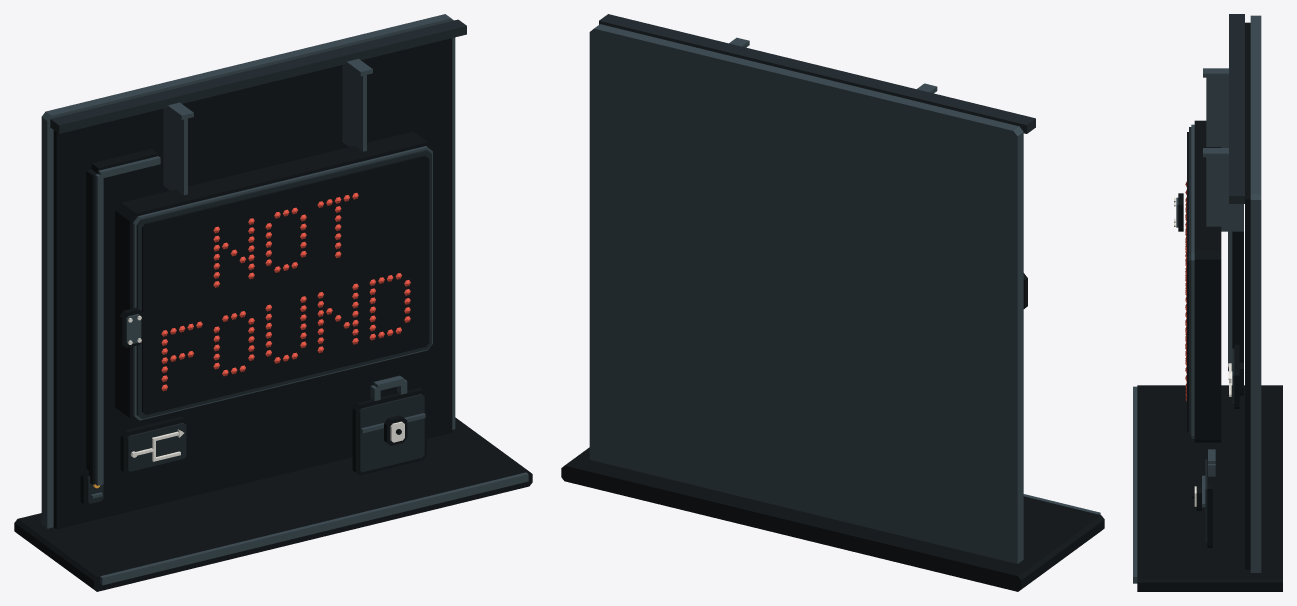
3 renders of one model, left to right at view 1: azimuth 30°, elevation 25°; view 2: azimuth 150°, elevation 25°; view 3: azimuth 270°, elevation 25°, orthographic. The views are drawn at different scales.
Visible parts, largest first — view 1: Exit Liquidity sign; view 2: Exit Liquidity sign; view 3: Exit Liquidity sign.
Part boxes in pixels (bbox=[...]): Exit Liquidity sign: bbox=[14, 14, 532, 591]; Exit Liquidity sign: bbox=[561, 14, 1104, 591]; Exit Liquidity sign: bbox=[1133, 14, 1282, 591].
Bounding box in the file's own units: 1.08 × 1 × 0.3475.
